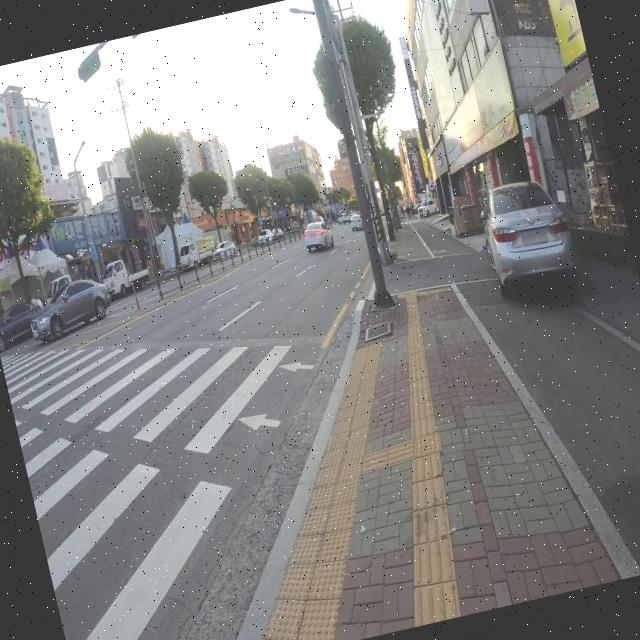crosswalk: (0, 345, 326, 640)
